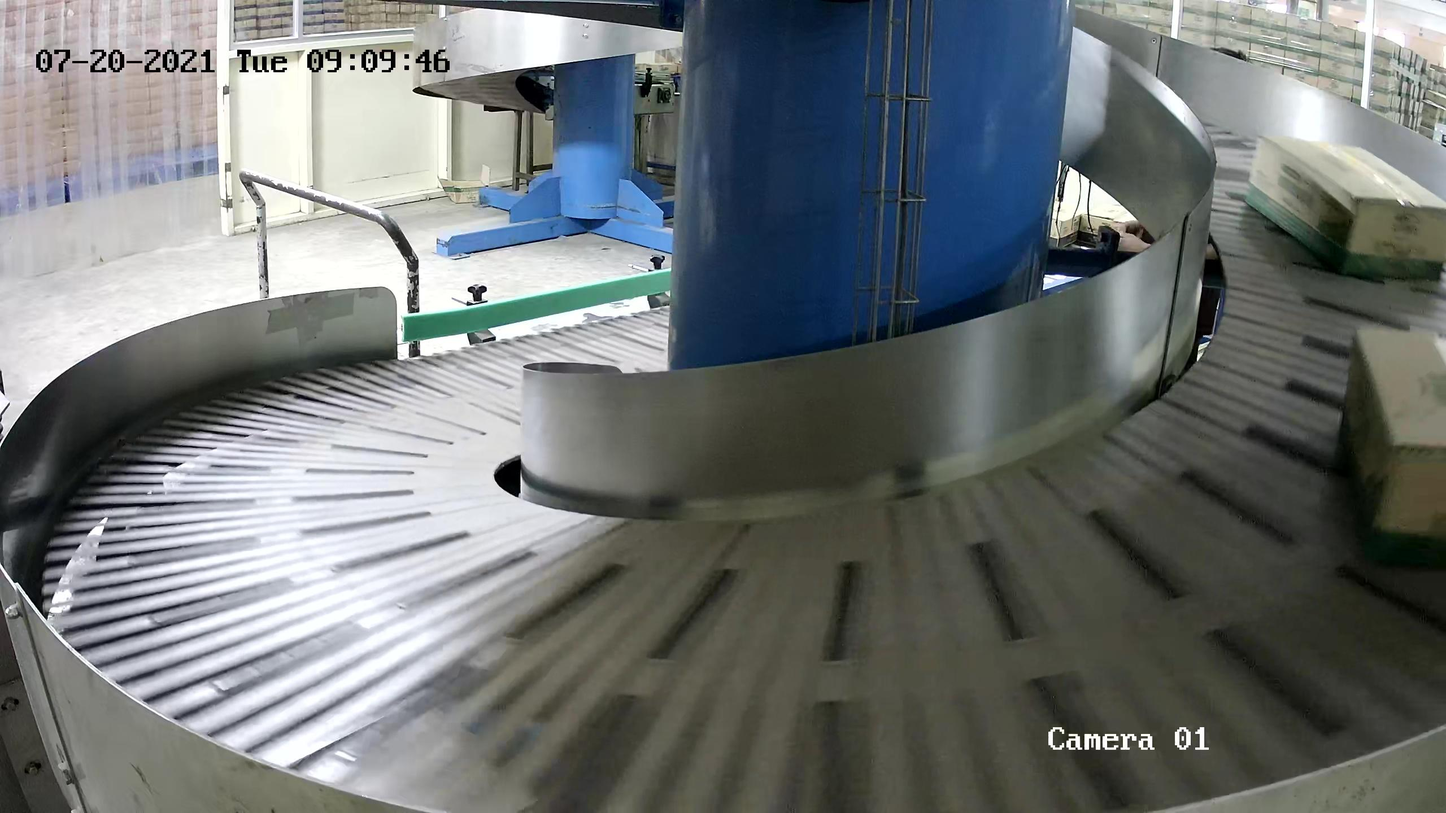Box: (1241, 130, 1446, 285), (1331, 323, 1446, 574)
